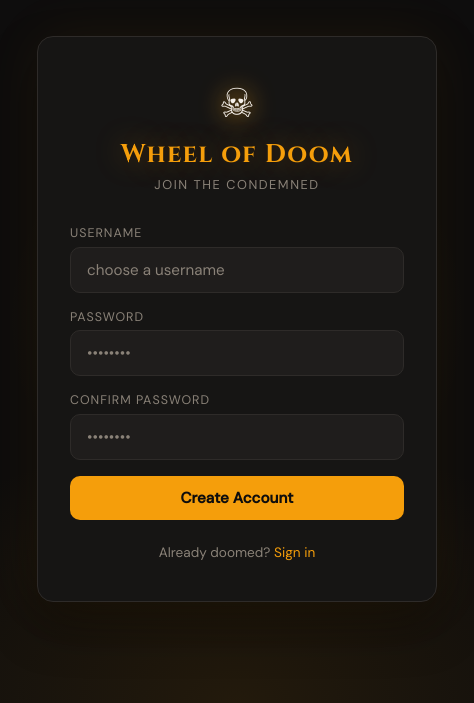
RegisterPage › shows an error when passwords do not match
Type "alice" into the field with placeholder "choose a username".
click(237, 270); type("alice")  # box [70,247,404,293]
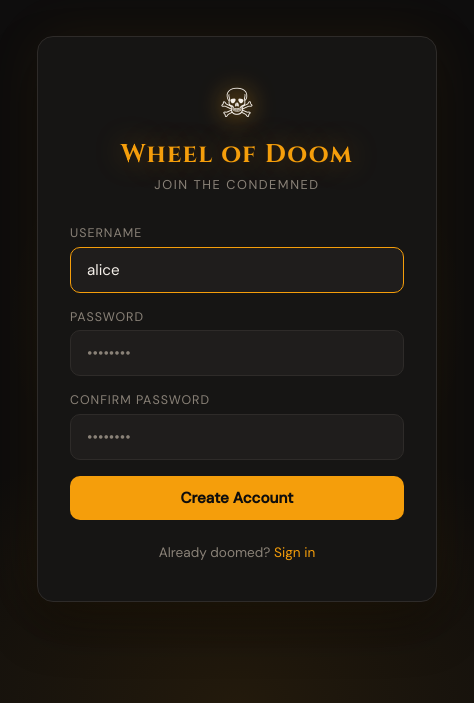
Type "secret123" into the 1st password field with placeholder "••••••••".
click(237, 353); type("secret123")  # box [70,330,404,376]
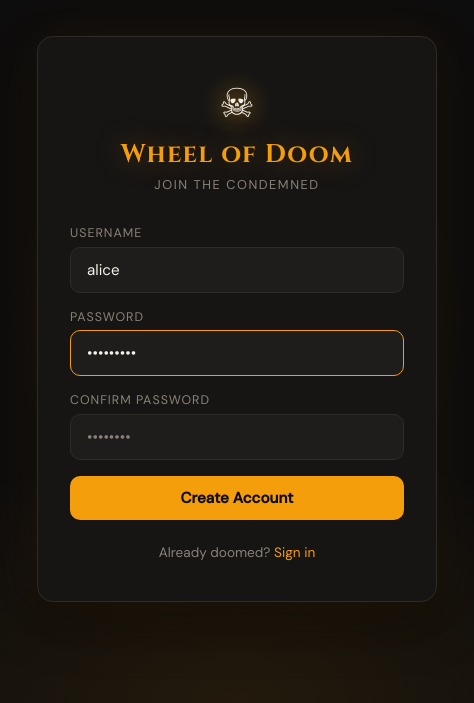
Type "different123" into the password field with placeholder "••••••••".
click(237, 437); type("different123")  # box [70,414,404,460]
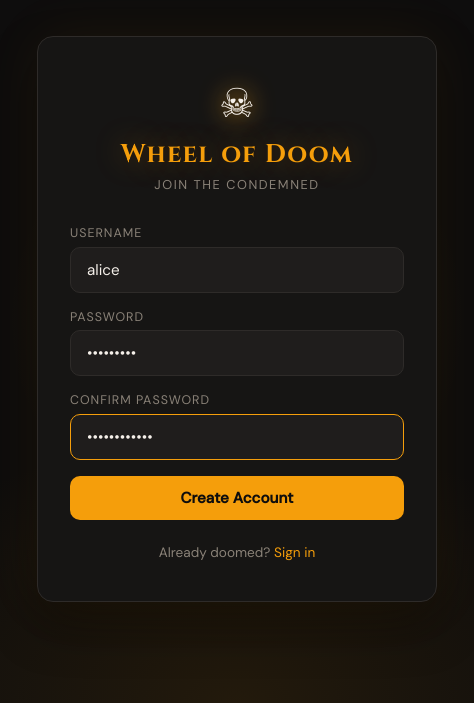
Click the button "Create Account".
click(237, 498)  # box [70,476,404,520]
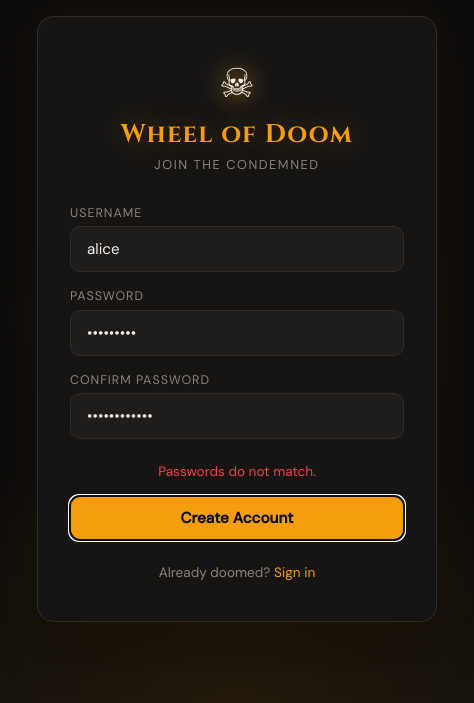
Expected: the text "Passwords do not match." is shown, [158,463,316,480]
